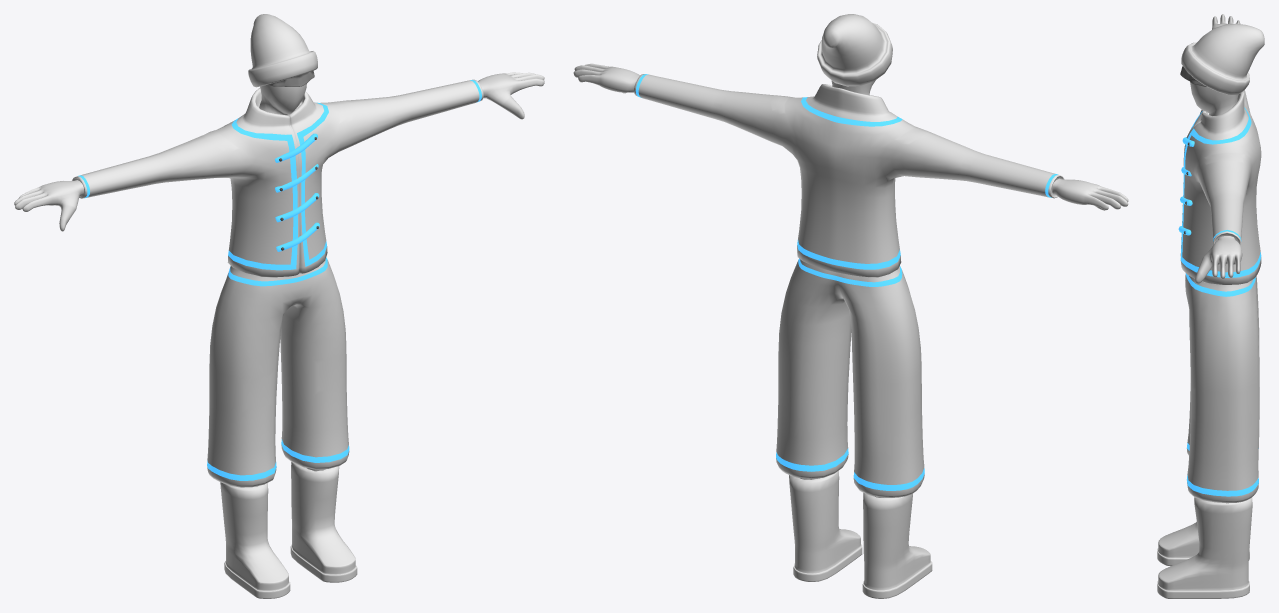
Rendered from ivan_no_weapon (2).fbx.
3 views of the same model, side by side, from view 1: azimuth 30°, elevation 25°; view 2: azimuth 150°, elevation 25°; view 3: azimuth 270°, elevation 25° (orthographic). The views are drawn at different scales.
Parts seen in each view (by area): view 1: Ivan; view 2: Ivan; view 3: Ivan.
Part boxes in pixels (<box>): Ivan: <box>14,14,544,598</box>; Ivan: <box>573,14,1128,598</box>; Ivan: <box>1157,14,1264,598</box>.
Size of the model in its own units: 3343 by 3269 by 582.
